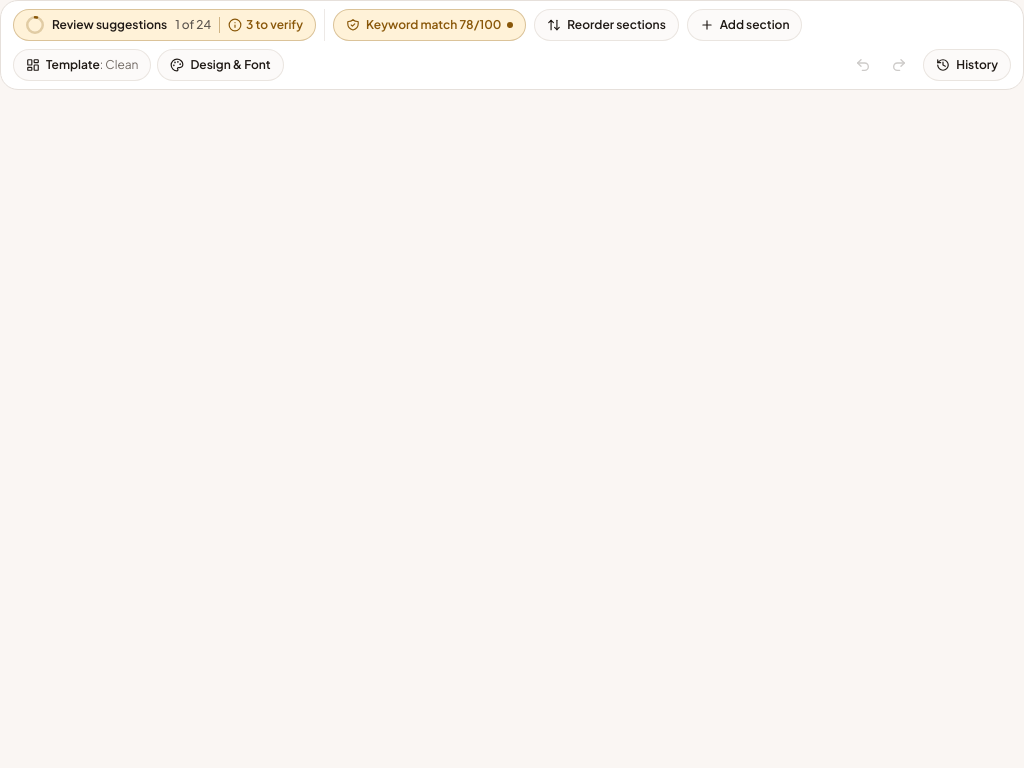
EditorToolbar › once scored › flags an outdated score with a dot and a note, never silently
Expected: the picture named "Outdated" is shown, [507,22,513,28]
Click the button "Keyword match 78/100": (430, 25) [333,9,526,41]
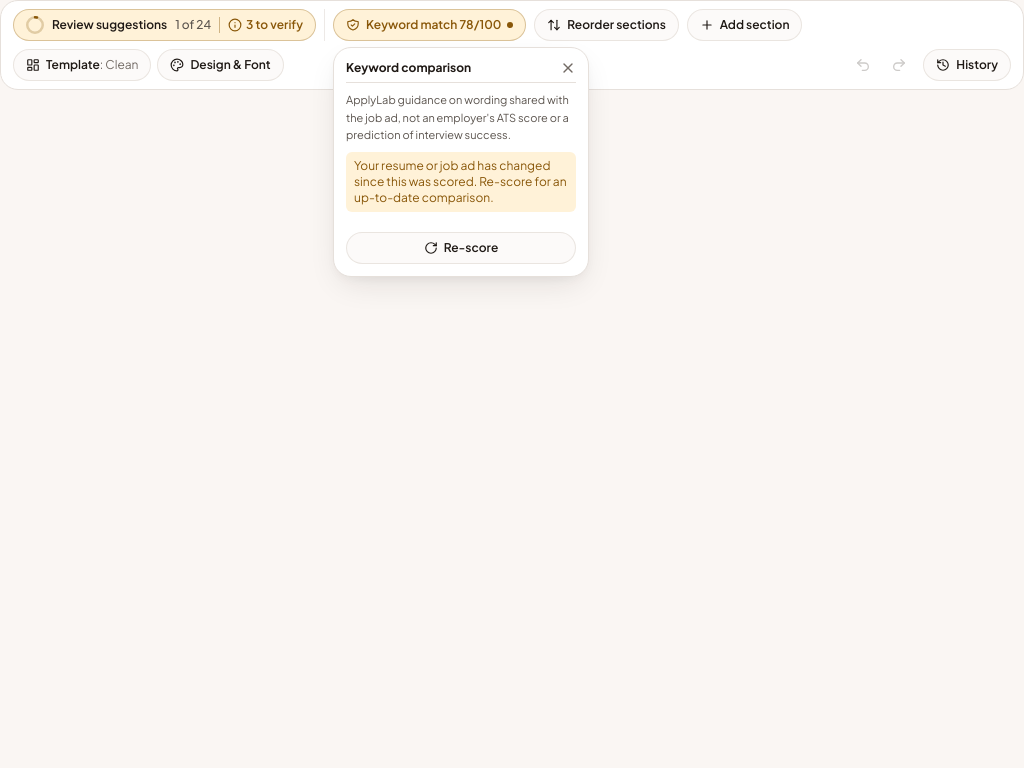
Now the text "resume or job ad has changed since this was scored" is shown, box [354,158,567,205]
